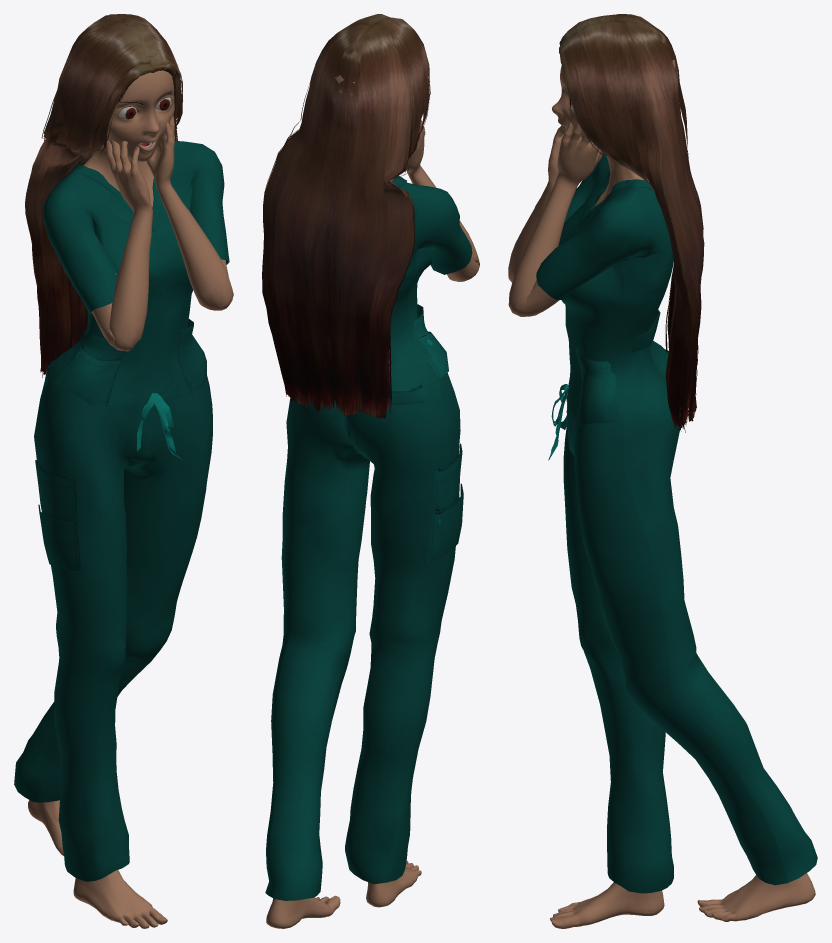
File: paloma.obj
3 views of the same model, side by side, from view 1: azimuth 30°, elevation 25°; view 2: azimuth 150°, elevation 25°; view 3: azimuth 270°, elevation 25° (orthographic). The views are drawn at different scales.
Parts seen in each view (by area): view 1: harvey_fscrubbottoms2.obj, harvey_fscrubtop2.obj, base.obj, long01.obj; view 2: harvey_fscrubbottoms2.obj, long01.obj, harvey_fscrubtop2.obj, base.obj; view 3: harvey_fscrubbottoms2.obj, long01.obj, harvey_fscrubtop2.obj, base.obj.
Part boxes in pixels (left/top/right/bottom): harvey_fscrubbottoms2.obj: left=14, top=358, right=212, bottom=881; harvey_fscrubtop2.obj: left=43, top=141, right=229, bottom=406; base.obj: left=28, top=70, right=233, bottom=928; long01.obj: left=25, top=14, right=182, bottom=377; harvey_fscrubbottoms2.obj: left=265, top=361, right=463, bottom=900; long01.obj: left=262, top=14, right=430, bottom=418; harvey_fscrubtop2.obj: left=388, top=176, right=472, bottom=390; base.obj: left=266, top=75, right=479, bottom=928; harvey_fscrubbottoms2.obj: left=548, top=349, right=817, bottom=893; long01.obj: left=559, top=14, right=704, bottom=432; harvey_fscrubtop2.obj: left=536, top=153, right=673, bottom=426; base.obj: left=508, top=60, right=815, bottom=928.
Bounding box in the file's own units: 3.21 × 15.35 × 4.76.
Materials: 6 (5 with a texture image).
